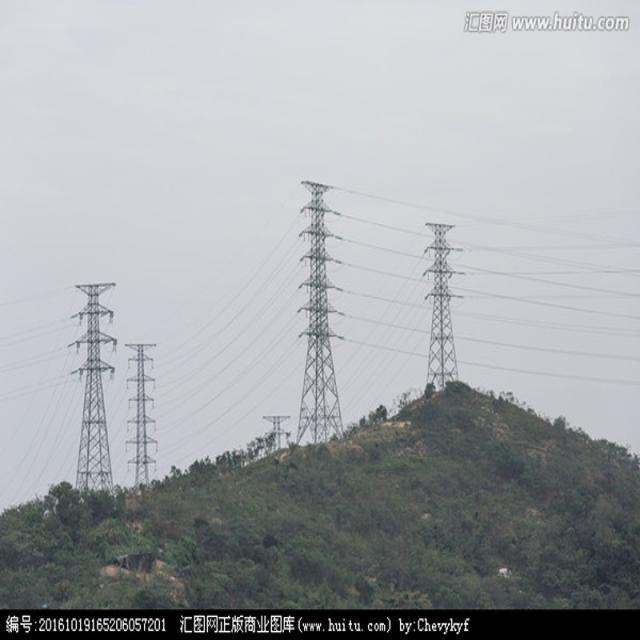non-critical vegetation: (288, 177, 346, 441), (60, 272, 118, 492), (416, 209, 466, 394), (119, 334, 163, 482)
